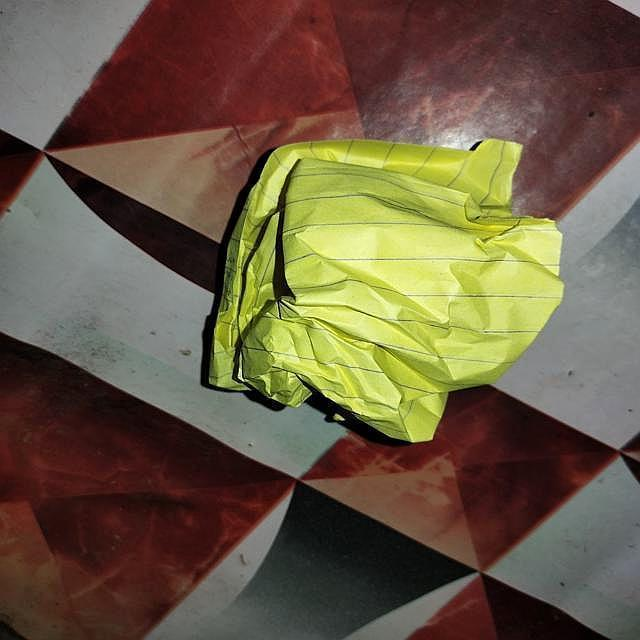Biodegradable: (207, 141, 565, 447)
